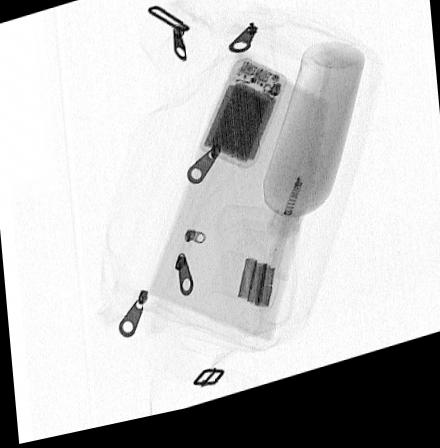Powerbank: (197, 67, 288, 179)
